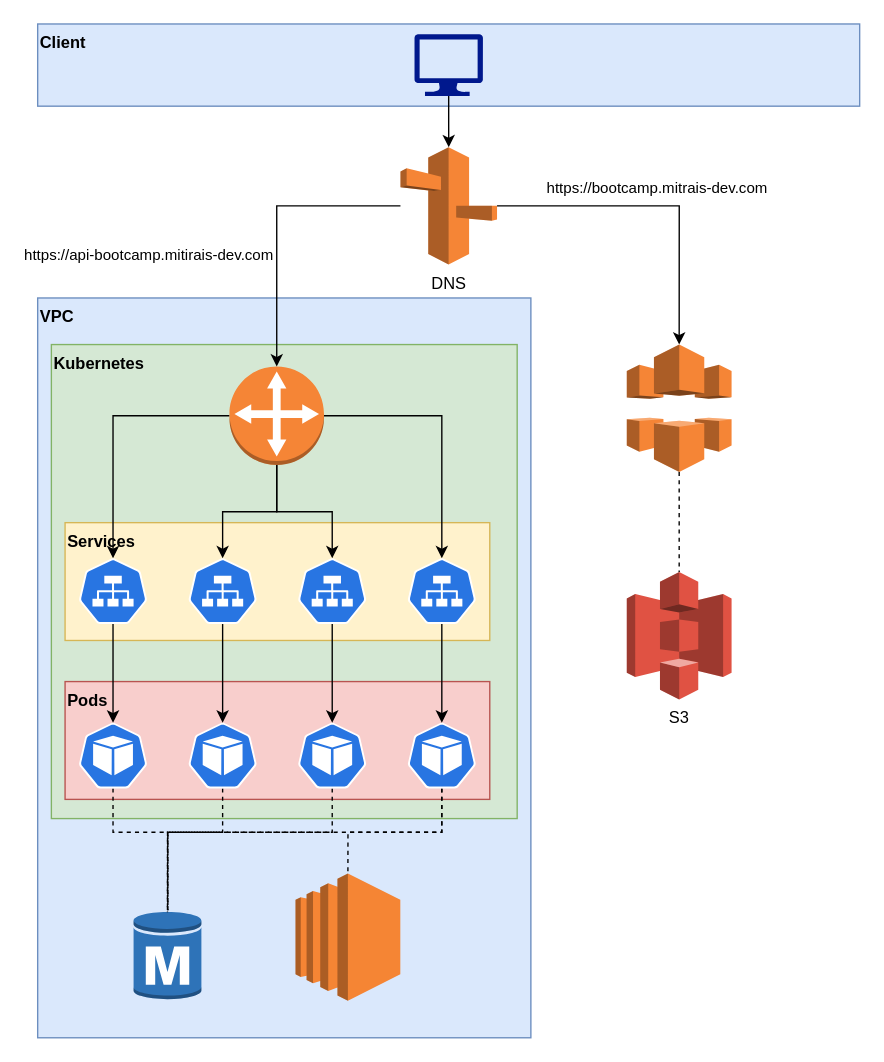
This 884x1062 diagram has some shape labels left out. Here are the shapes that lost their labels. From the top down, the centre of each, then its label:
At point (276, 415): "Ingress".
At point (678, 407): "Cloudfront".
At point (166, 955): "RDS".
At point (347, 936): "Kafka".
